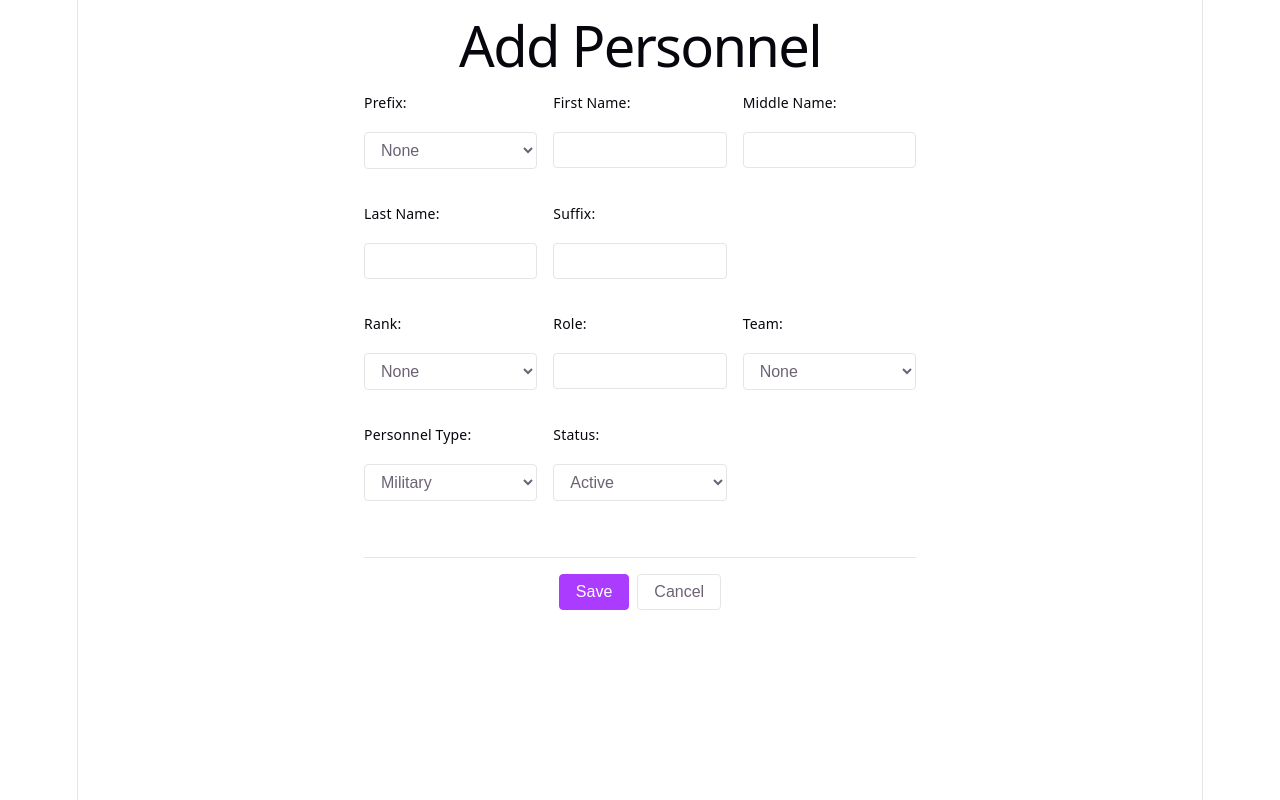
Test: PersonnelForm (integration) › should display error message when insert fails
In the field labelled "First Name:": (640, 150) [553,132,727,168], type "Samuel"
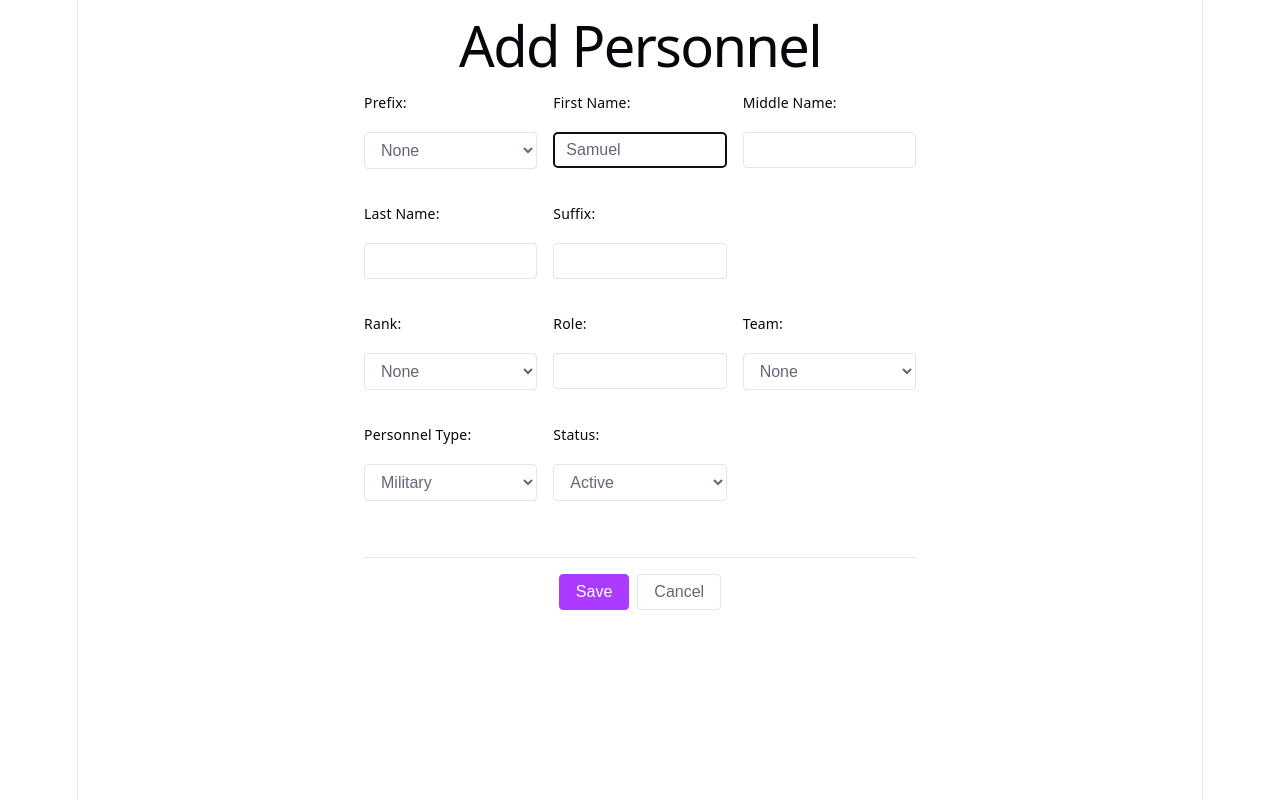
In the field labelled "Last Name:": (451, 261) [364,243,537,279], type "Ybarra"
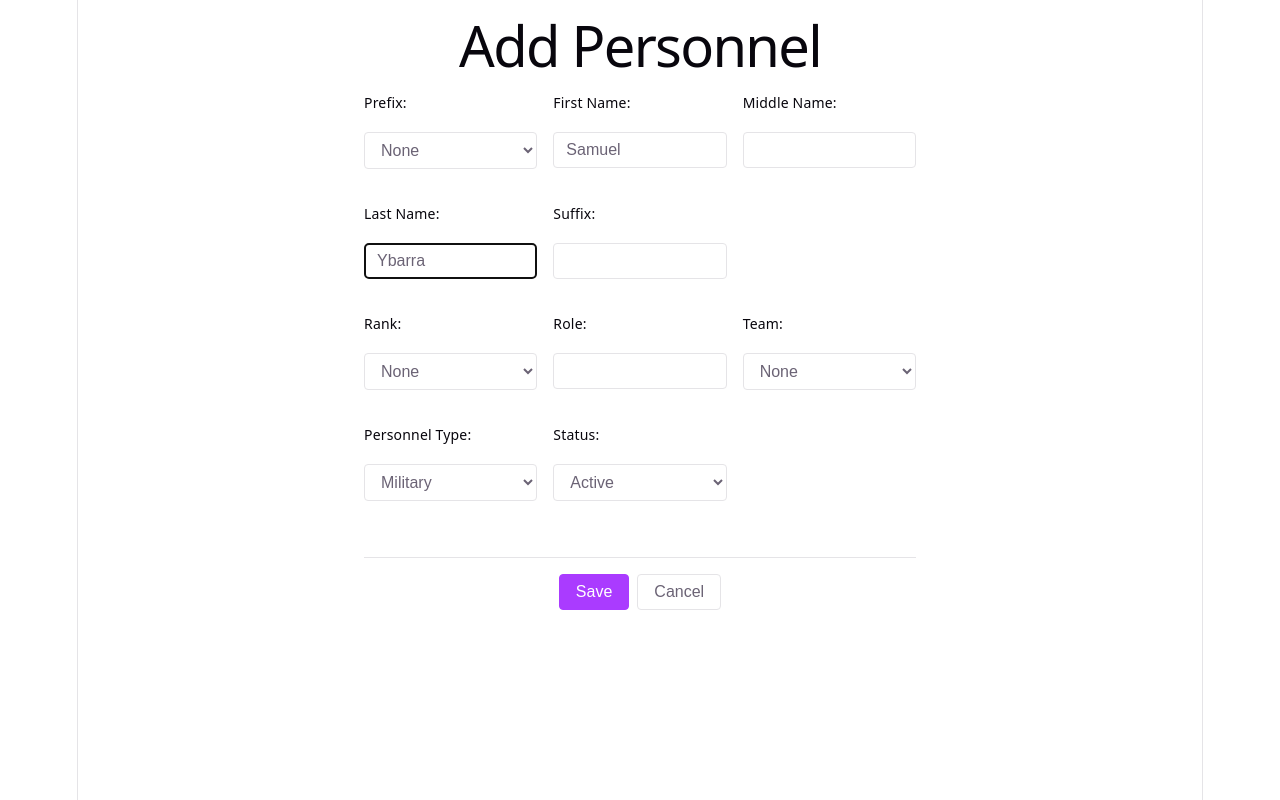
In the field labelled "Role:": (640, 371) [553,353,727,389], type "Technical Expert"
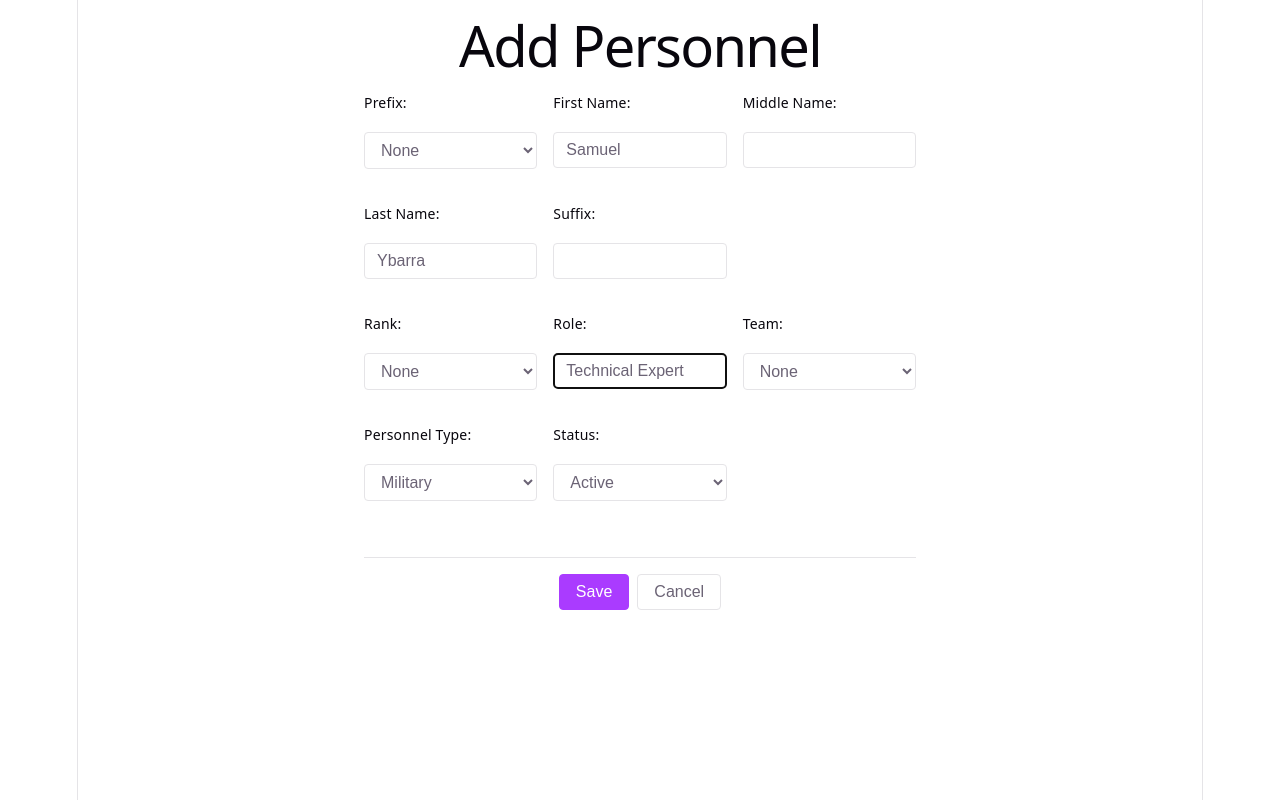
Select "SG-2" in the dropdown labelled "Team:": (829, 372) [743,353,916,390]
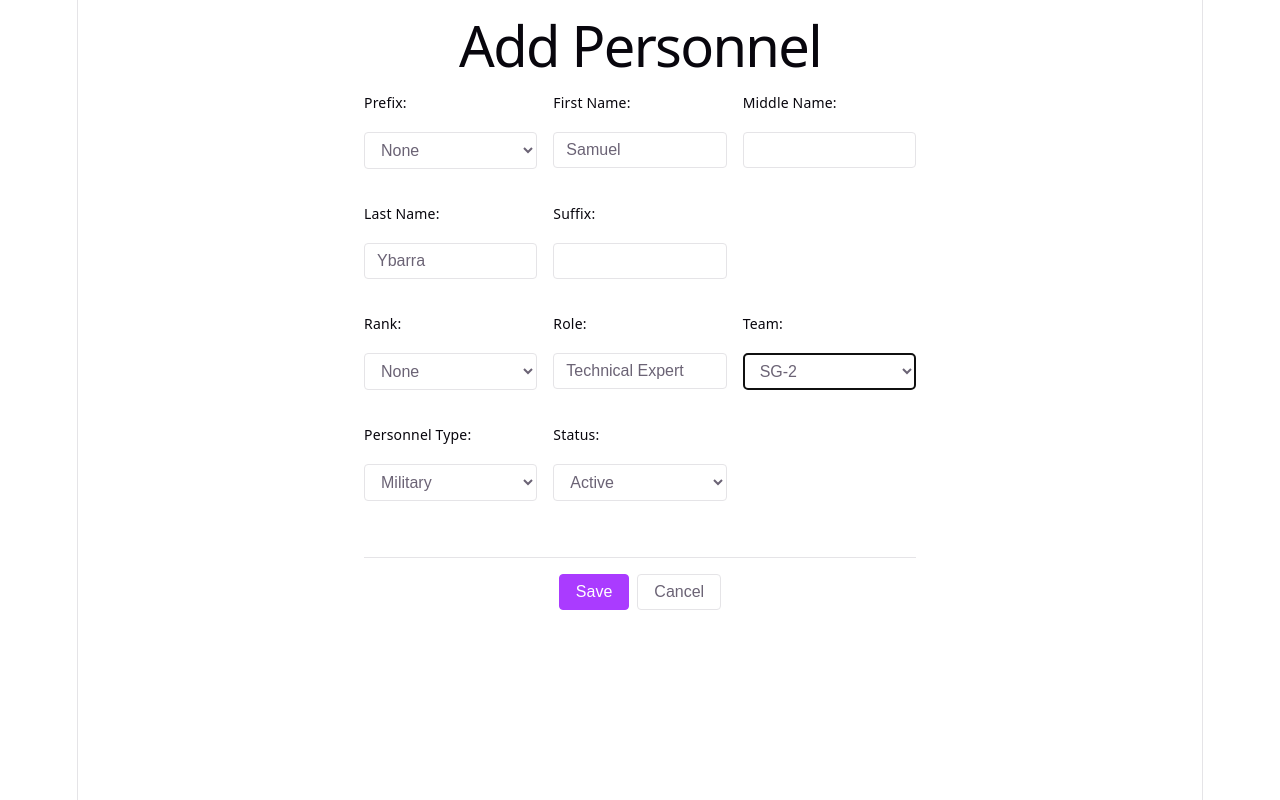
Click the button "Save": (594, 592) [559,574,629,610]
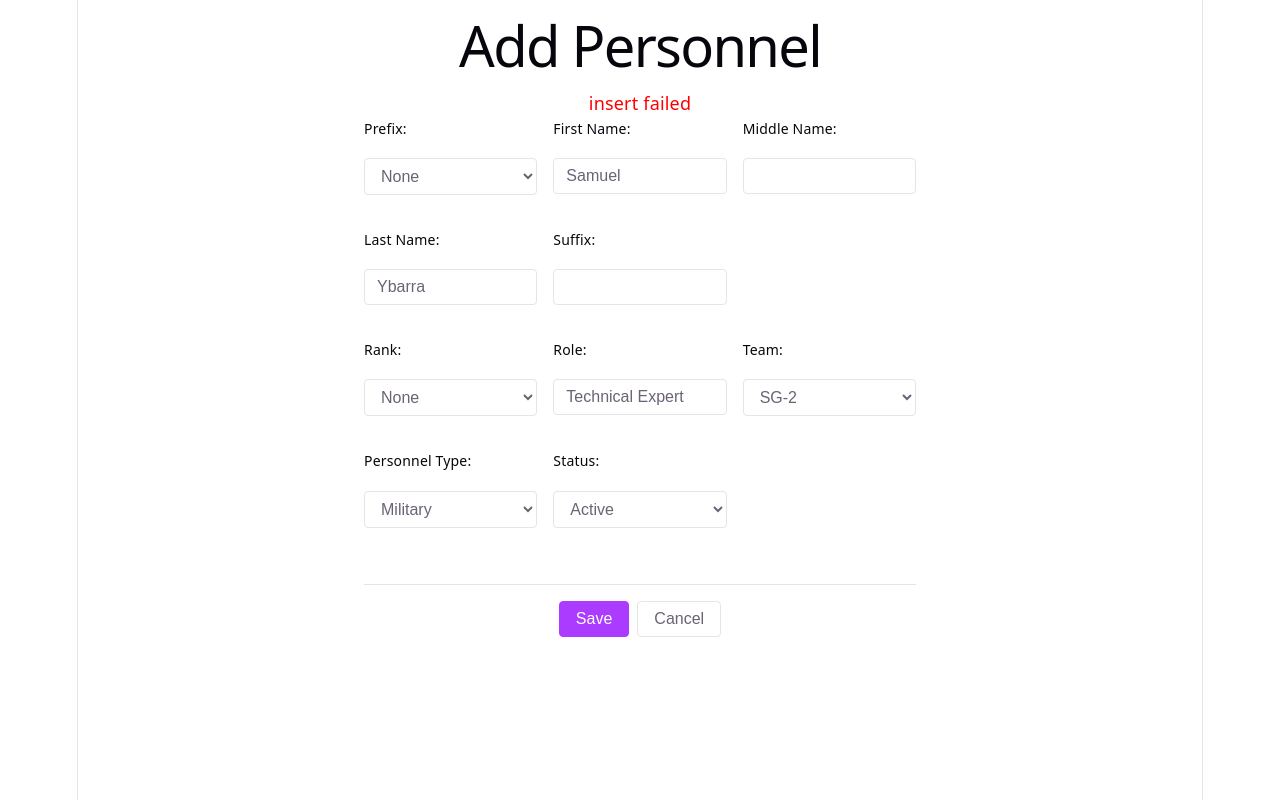
Check: the text "insert failed" is shown, box [589,91,691,115]
